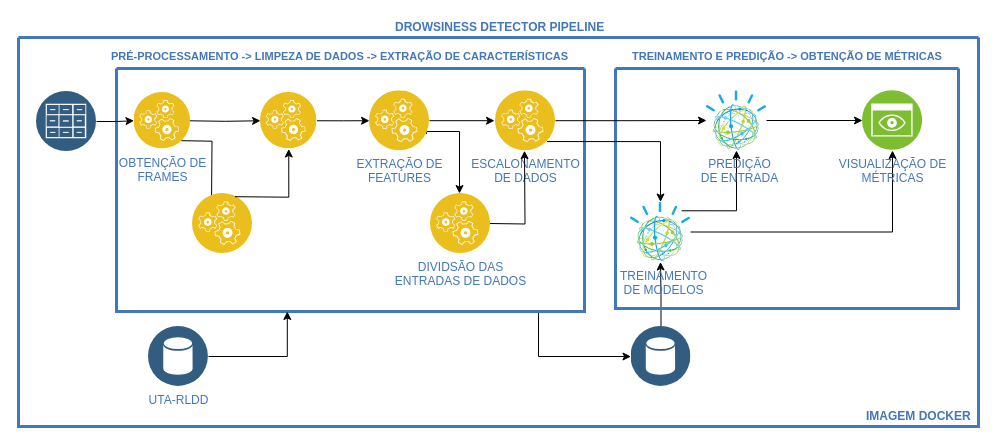
Image size: 997x445. Some labels were removed from this diagram. Each missing label, with the centre of its shape:
ARQUIVO DE VÍDEO: point 66,121
CORREÇÃO DE ORIENTAÇÃO (OPCIONAL): point 222,223
EXTRAÇÃO DE MARCOS FACIAIS: point 288,120
UTA-RLDD ESCALONADO: point 660,356
